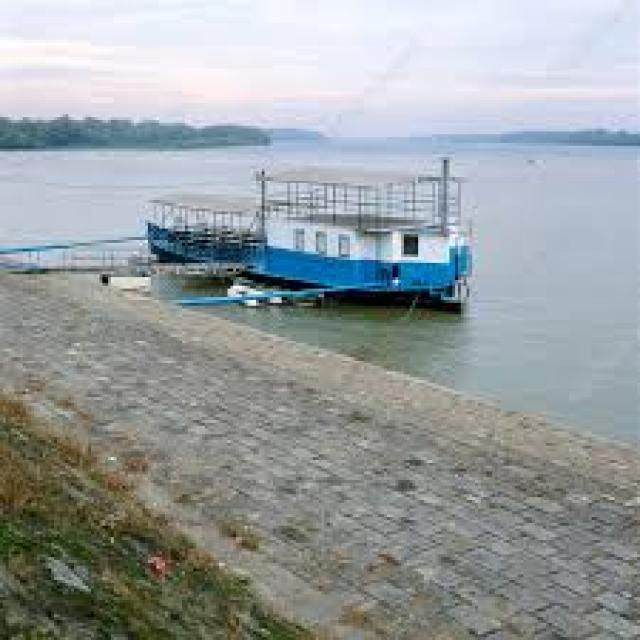fishing boat: (128, 156, 479, 304)
